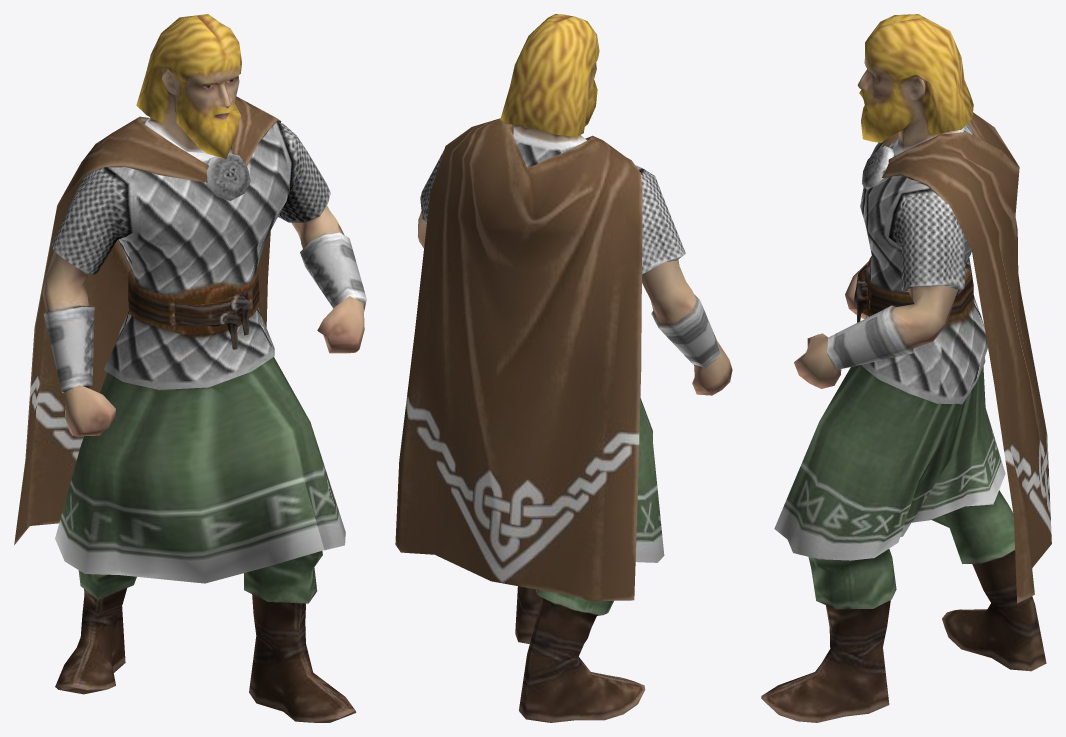
File: body-heavyinfantry.glb
3 views of the same model, side by side, from view 1: azimuth 30°, elevation 25°; view 2: azimuth 150°, elevation 25°; view 3: azimuth 270°, elevation 25° (orthographic). The views are drawn at different scales.
Size of the model in its own units: 0.9231 by 2.01 by 0.8009.
1 material, 1 textured.
